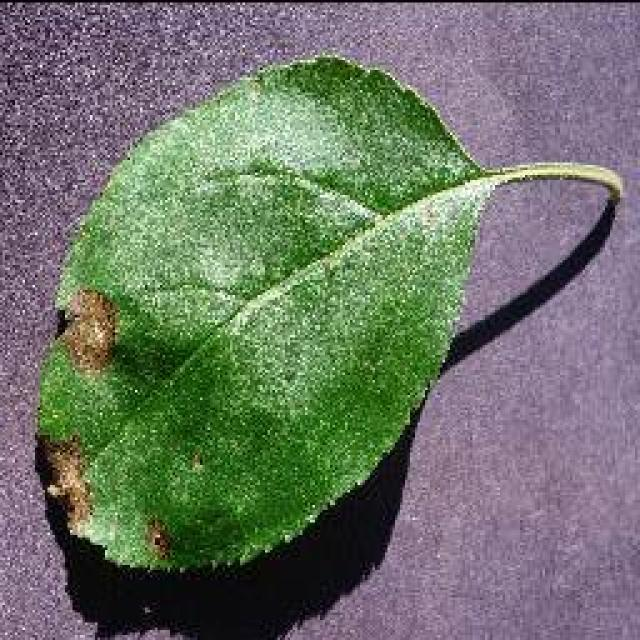Black_rot: (32, 50, 622, 578)
